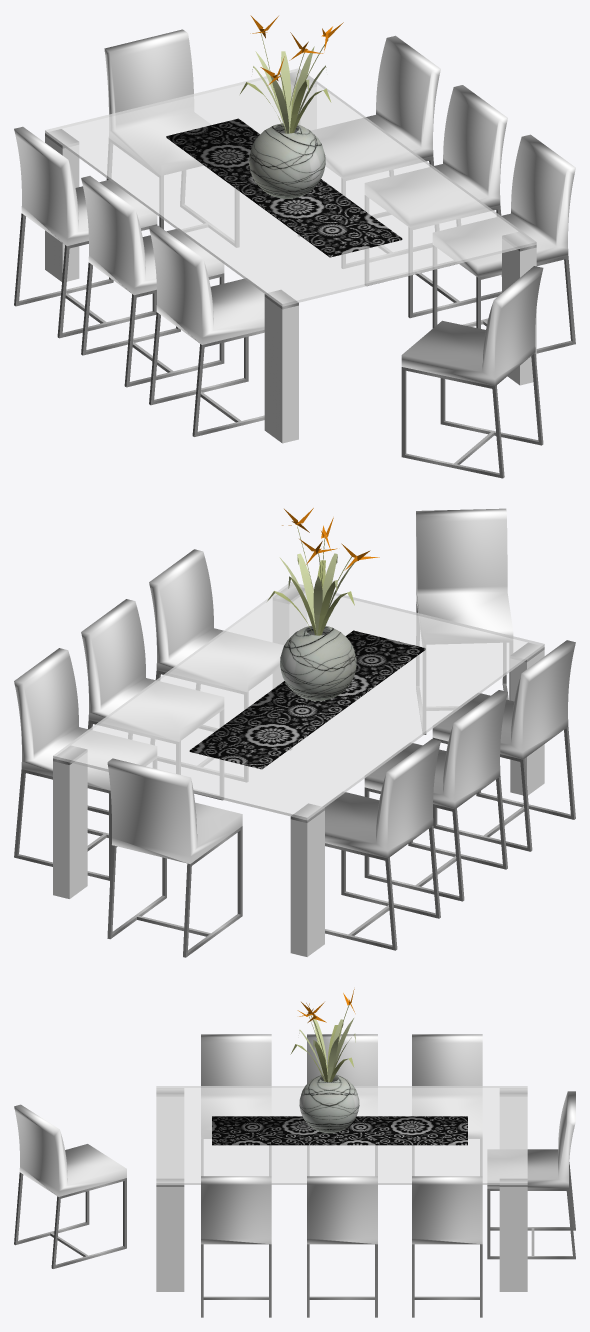
Rendered from tavolo.glb.
3 views of the same model, one above another, from view 1: azimuth 30°, elevation 25°; view 2: azimuth 150°, elevation 25°; view 3: azimuth 270°, elevation 25° (orthographic). The views are drawn at different scales.
Parts seen in each view (by area): view 1: chair (×8), table, leg#1 (×8), suite, leg (×6), KARE 62900 Vase Network Ball ( Vase Network Ball ); view 2: chair (×8), table, suite, leg (×7), leg#1 (×4), KARE 62900 Vase Network Ball ( Vase Network Ball ); view 3: chair (×8), table, suite, leg#1 (×5), KARE 62900 Vase Network Ball ( Vase Network Ball ), leg.
Boxes of the visible parts, x1=… form: chair (×8): x1=14, y1=29, x2=575, y2=386; table: x1=45, y1=68, x2=536, y2=443; leg#1 (×8): x1=14, y1=157, x2=575, y2=478; suite: x1=166, y1=118, x2=402, y2=257; leg (×6): x1=57, y1=138, x2=543, y2=445; KARE 62900 Vase Network Ball ( Vase Network Ball ): x1=249, y1=123, x2=325, y2=198; chair (×8): x1=14, y1=508, x2=575, y2=863; table: x1=53, y1=582, x2=544, y2=956; suite: x1=189, y1=630, x2=425, y2=769; leg (×7): x1=14, y1=602, x2=575, y2=957; leg#1 (×4): x1=107, y1=737, x2=532, y2=950; KARE 62900 Vase Network Ball ( Vase Network Ball ): x1=280, y1=625, x2=356, y2=700; chair (×8): x1=14, y1=1034, x2=575, y2=1244; table: x1=156, y1=1086, x2=527, y2=1291; suite: x1=212, y1=1116, x2=467, y2=1145; leg#1 (×5): x1=14, y1=1172, x2=575, y2=1317; KARE 62900 Vase Network Ball ( Vase Network Ball ): x1=299, y1=1074, x2=359, y2=1133; leg: x1=51, y1=1178, x2=126, y2=1268.
Bounding box in the file's own units: 2.53 × 1.98 × 4.13.
Materials: 15 (4 with a texture image).
